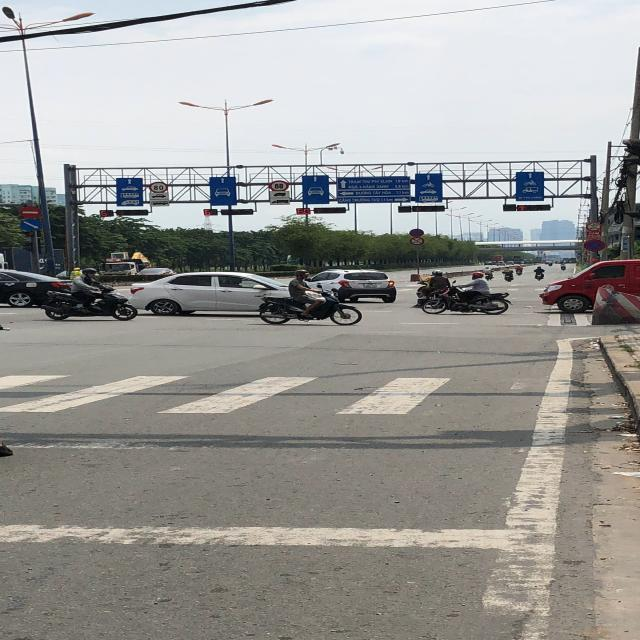Bien bao cam di nguoc chieu: (17, 205, 45, 218)
Bien bao huong phai di vong chuong ngai vat: (19, 219, 40, 232)
Bien bao toc do toi da cho phep: (147, 180, 171, 194), (268, 179, 290, 192)
